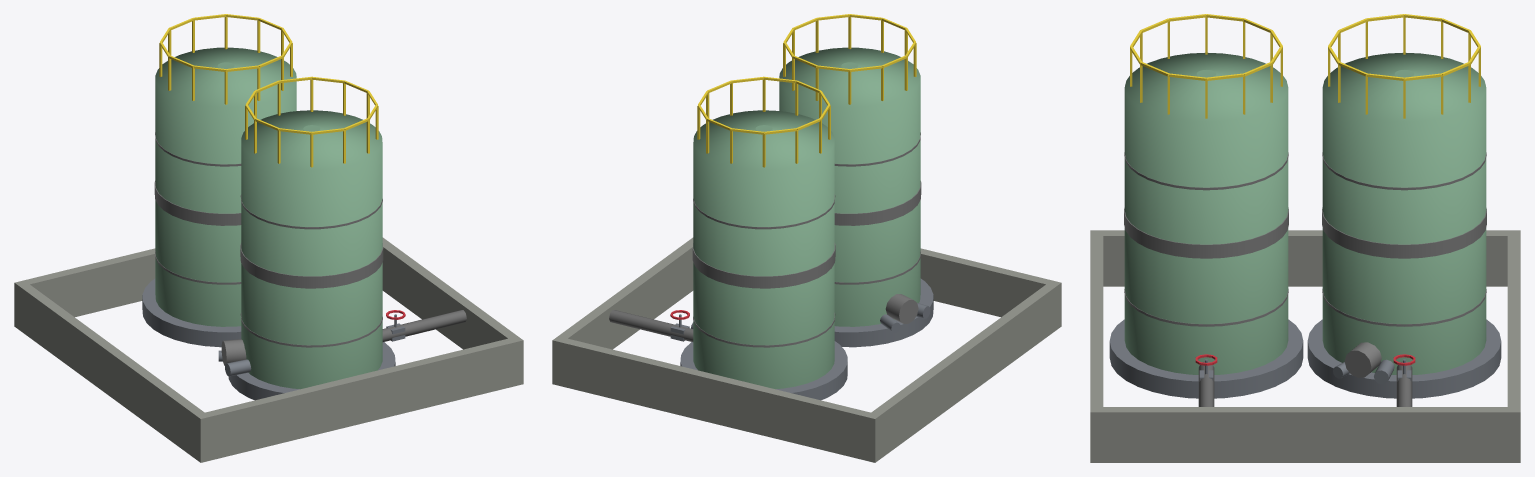
Rendered from port_cargo3_close.fbx.
3 renders of one model, left to right at view 1: azimuth 30°, elevation 25°; view 2: azimuth 150°, elevation 25°; view 3: azimuth 270°, elevation 25°, orthographic. The views are drawn at different scales.
Parts seen in each view (by area): view 1: a402_0_port_cargo3_close; view 2: a402_0_port_cargo3_close; view 3: a402_0_port_cargo3_close.
Boxes of the visible parts, <box> form: a402_0_port_cargo3_close: <box>14,14,523,462</box>; a402_0_port_cargo3_close: <box>552,14,1061,462</box>; a402_0_port_cargo3_close: <box>1090,14,1520,462</box>.
Bounding box in the file's own units: 10 × 8.35 × 10.
